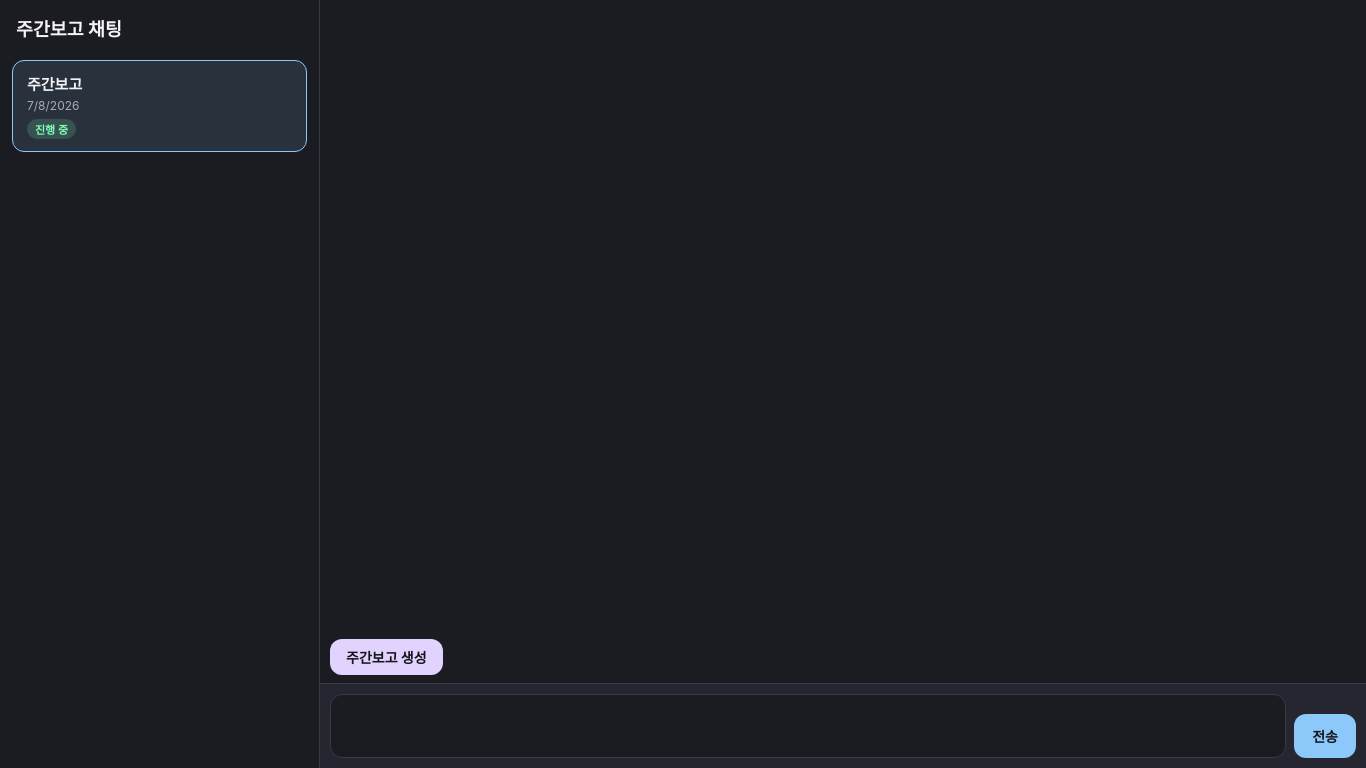
AppShell › shows a message after it is sent (Req 3.1)
Type "이번 주 API 작업 완료" into the text box named "메시지 입력" at (808, 726), box left=330, top=694, right=1286, bottom=758
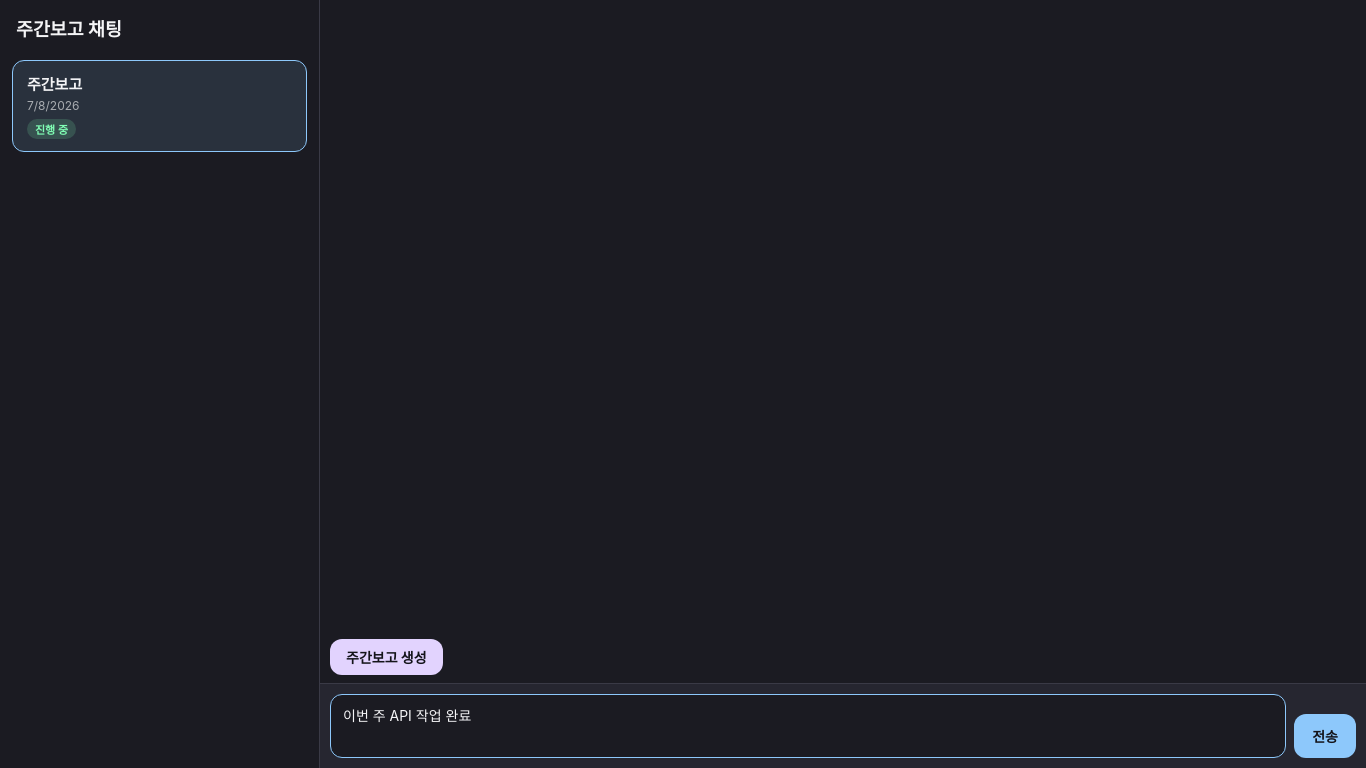
Click the button "전송" at (1325, 736), box left=1294, top=714, right=1356, bottom=758
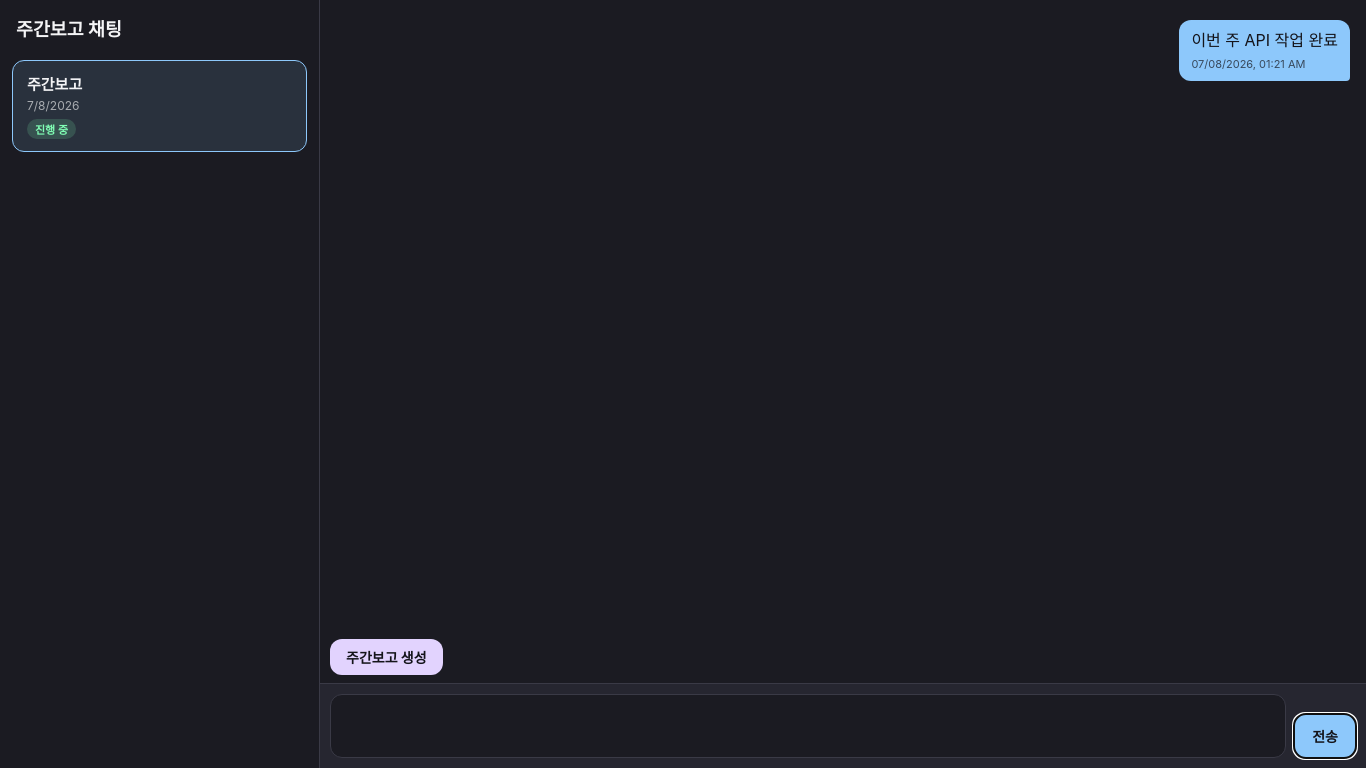
Now the text "이번 주 API 작업 완료" is shown, box left=1191, top=28, right=1338, bottom=52
